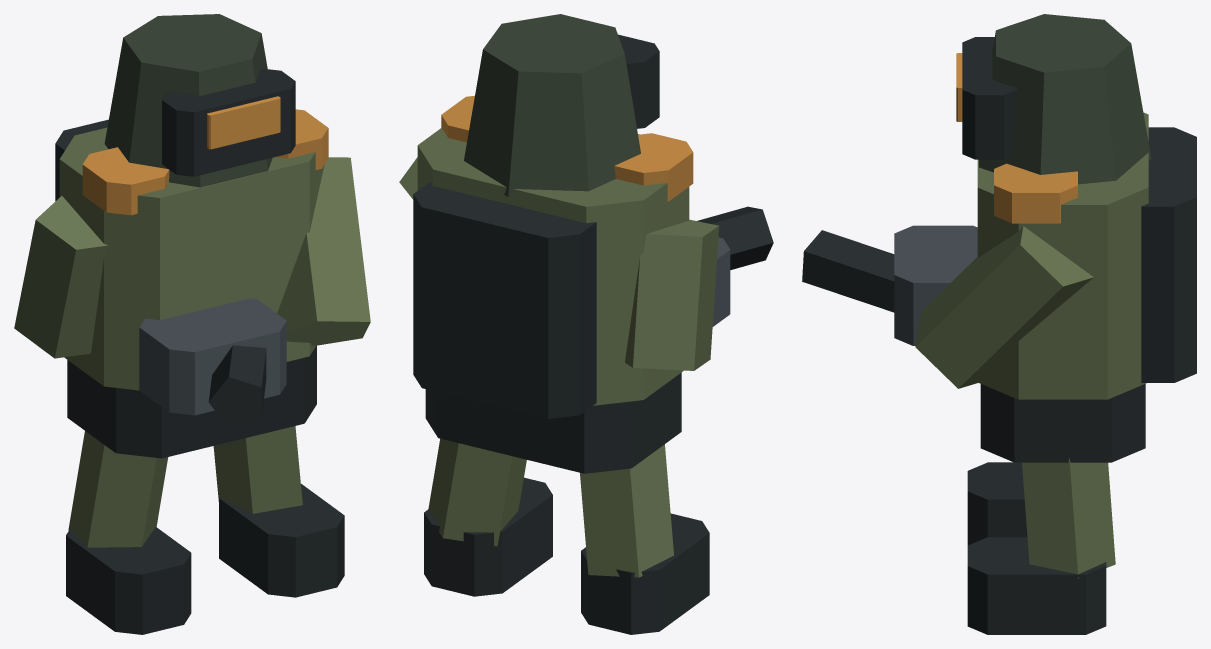
Rendered from infantry.glb.
The picture shows the model from 3 angles, left to right: view 1: azimuth 30°, elevation 25°; view 2: azimuth 150°, elevation 25°; view 3: azimuth 270°, elevation 25°; orthographic projection. The views are drawn at different scales.
Visible parts, largest first — view 1: infantry; view 2: infantry; view 3: infantry.
Boxes of the visible parts, <box> form: infantry: <box>14,14,370,634</box>; infantry: <box>399,14,773,634</box>; infantry: <box>802,14,1196,634</box>.
Size of the model in its own units: 0.4748 by 0.7885 by 0.5267.
